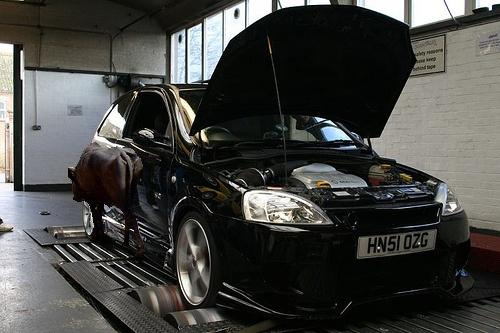tampered: (69, 142, 144, 256)
